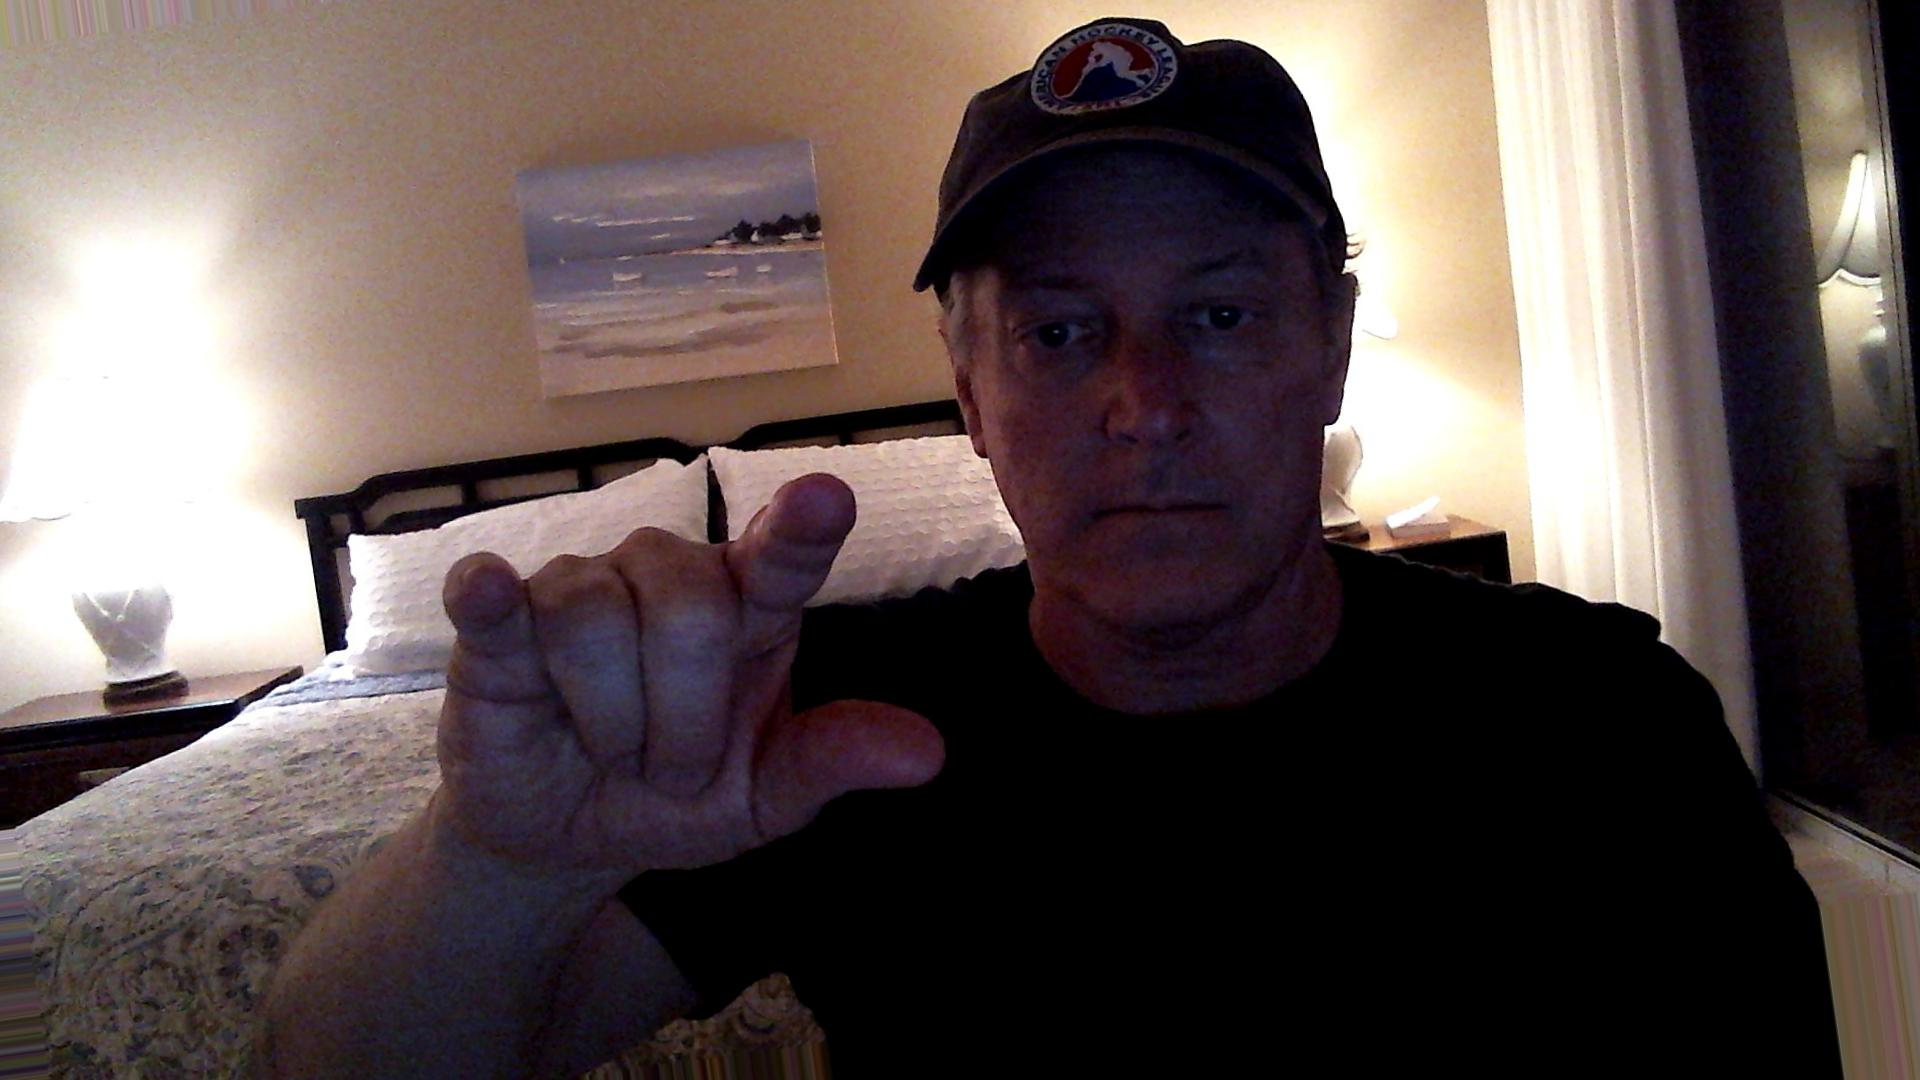I Love You: (415, 454, 982, 876)
